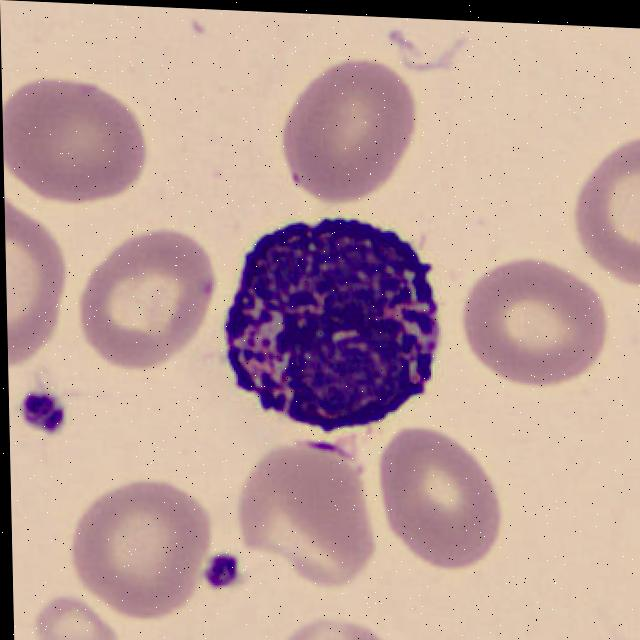basophil: (215, 212, 455, 440)
platelets: (10, 381, 73, 433), (186, 538, 244, 590)
rbc: (273, 52, 432, 213), (364, 425, 510, 585), (225, 453, 376, 597), (454, 239, 603, 384), (68, 476, 203, 619), (2, 73, 144, 207), (75, 244, 205, 382), (553, 147, 640, 294), (267, 600, 406, 640), (21, 591, 117, 640), (488, 22, 613, 36)
